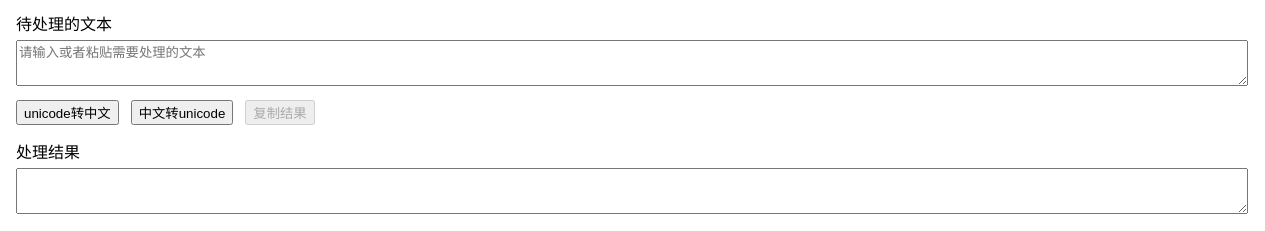
Scenario: developer and text tools › converts Chinese Unicode escapes without changing ordinary text or emoji
The width and height of the screenshot is (1265, 231).
Type "中A🙂" into the text box labelled "待处理的文本".
click(632, 63); type("中A🙂")  # box [16,40,1248,86]
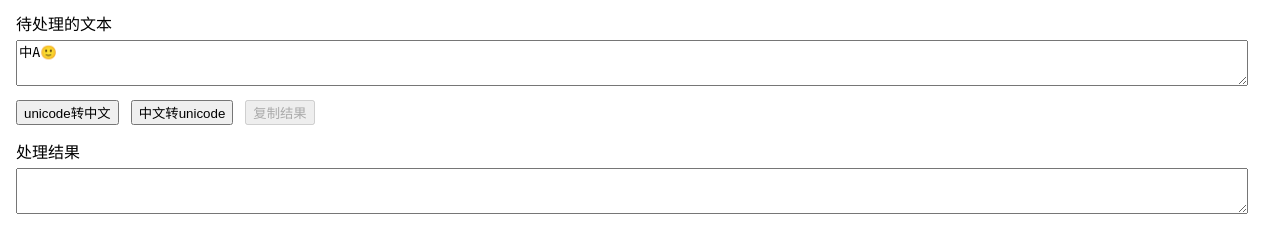
Click the button "中文转unicode".
click(182, 112)  # box [131,100,233,125]
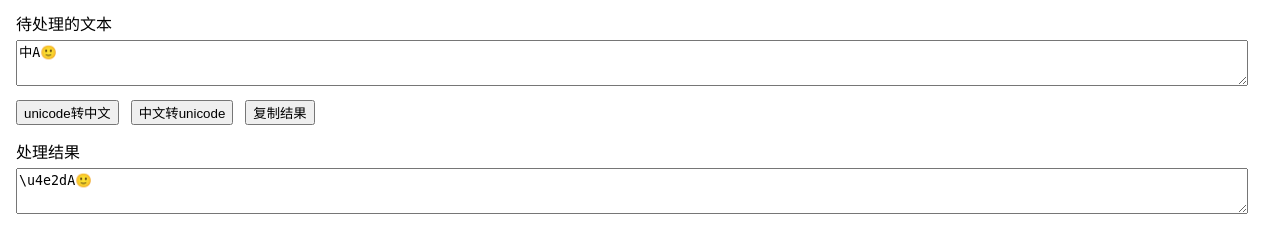
Expected: the text box labelled "处理结果" holds "\\u4e2dA🙂", [16,168,1248,214]
Replace the text in the text box labelled "待处理的文本" with "\\u4e2dA🙂" at (632, 63), box [16,40,1248,86]
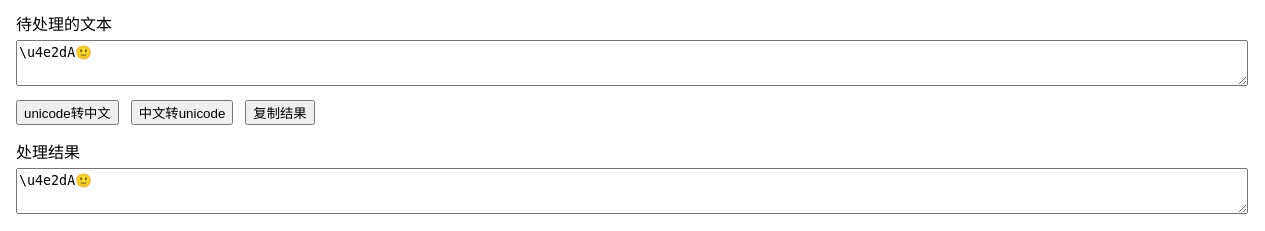
Click the button "unicode转中文".
click(67, 112)  # box [16,100,119,125]
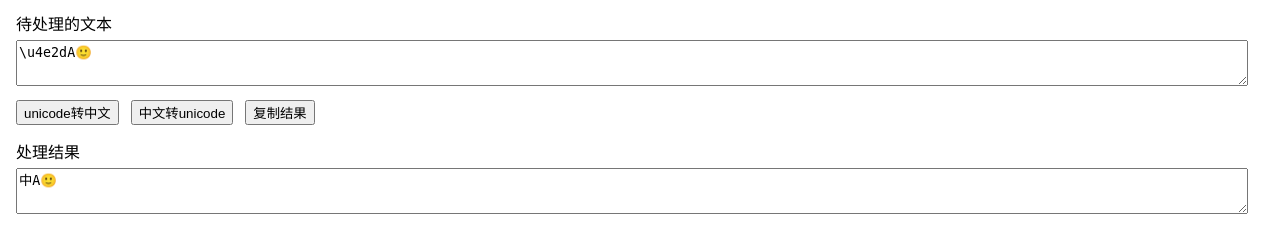
Expected: the text box labelled "处理结果" holds "中A🙂", [16,168,1248,214]
